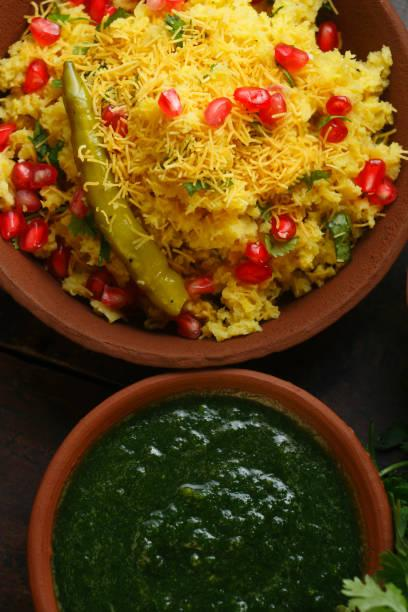poha: (26, 6, 393, 316)
